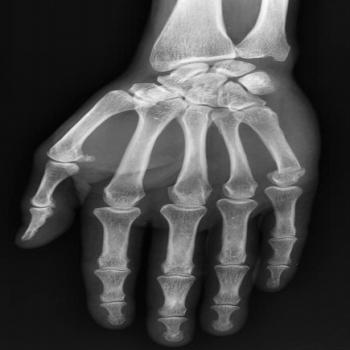Fracture: (268, 162, 312, 182)
